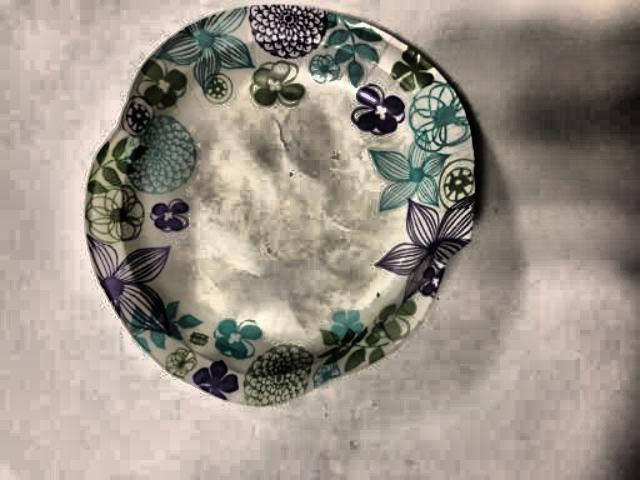Paper: (83, 4, 488, 415)
